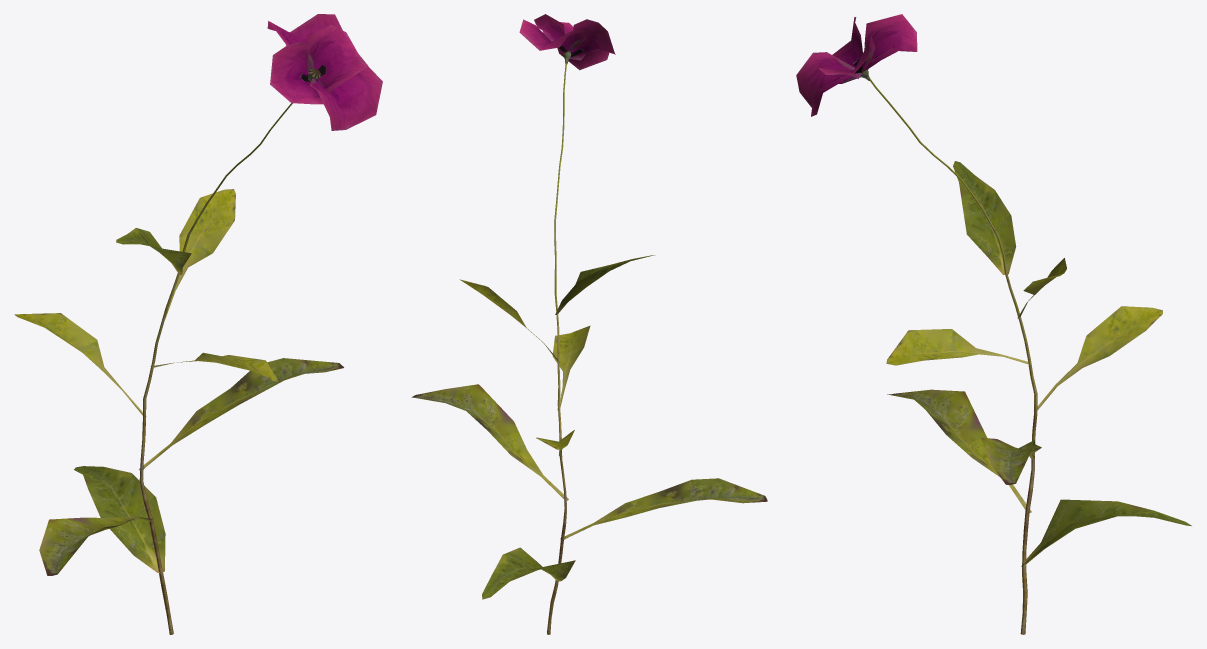
File: Poppy_OG_normal_magenta.glb
3 renders of one model, left to right at view 1: azimuth 30°, elevation 25°; view 2: azimuth 150°, elevation 25°; view 3: azimuth 270°, elevation 25°, orthographic. The views are drawn at different scales.
Visible parts, largest first — view 1: xtall; view 2: xtall; view 3: xtall.
Part boxes in pixels (x1,y1,x2,y2): xtall: [14, 14, 382, 634]; xtall: [411, 14, 767, 634]; xtall: [796, 14, 1191, 634].
Bounding box in the file's own units: 1.75 × 3.06 × 1.73.
Materials: 1 (1 with a texture image).
